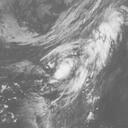cyclone: (54, 59, 73, 80)
